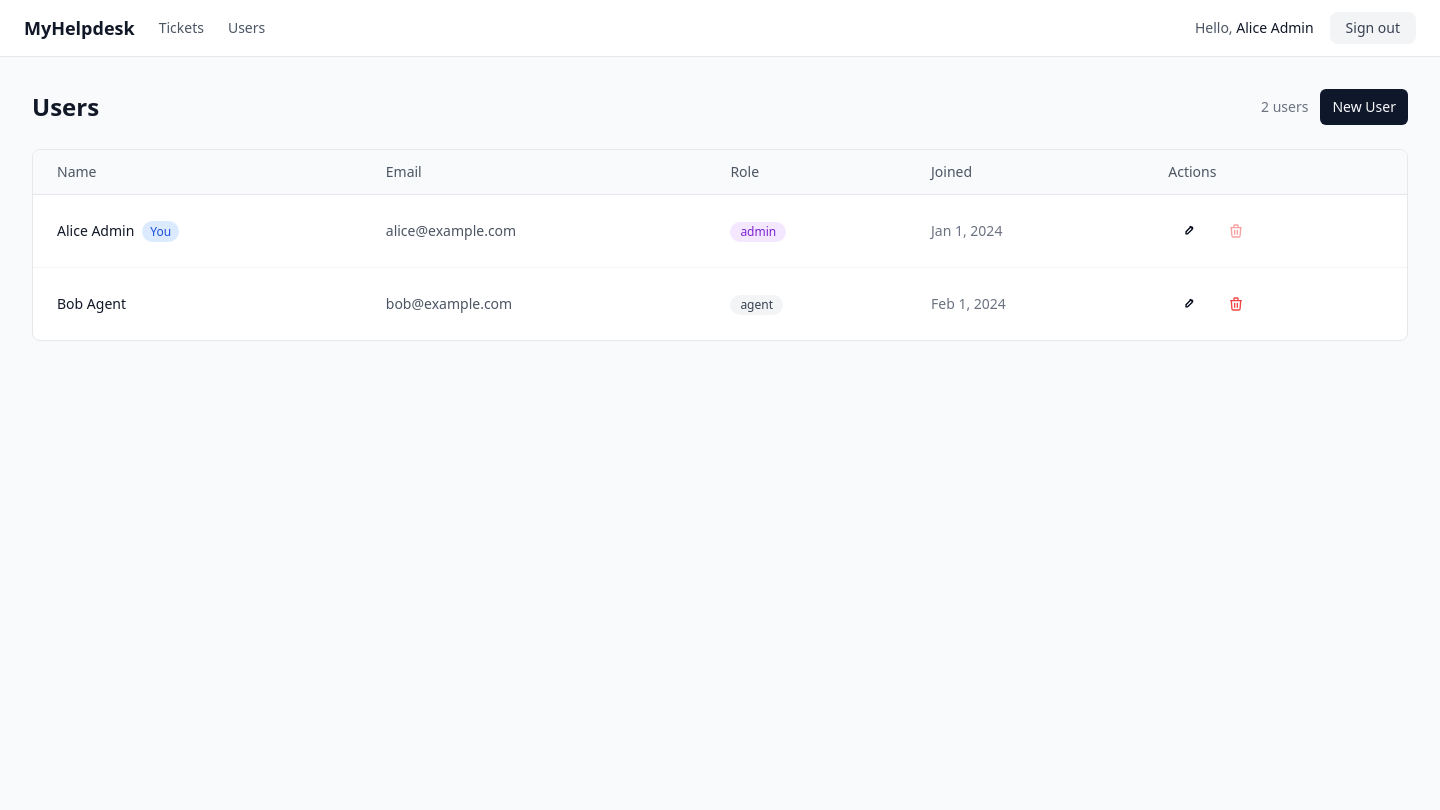
UsersPage › delete › removes the user row after confirming deletion
The width and height of the screenshot is (1440, 810).
Expected: the text "Bob Agent" is shown, [33,268,362,340]
Click the button named "Delete" in the row of "Bob Agent": point(1236, 304) [1216,284,1256,324]
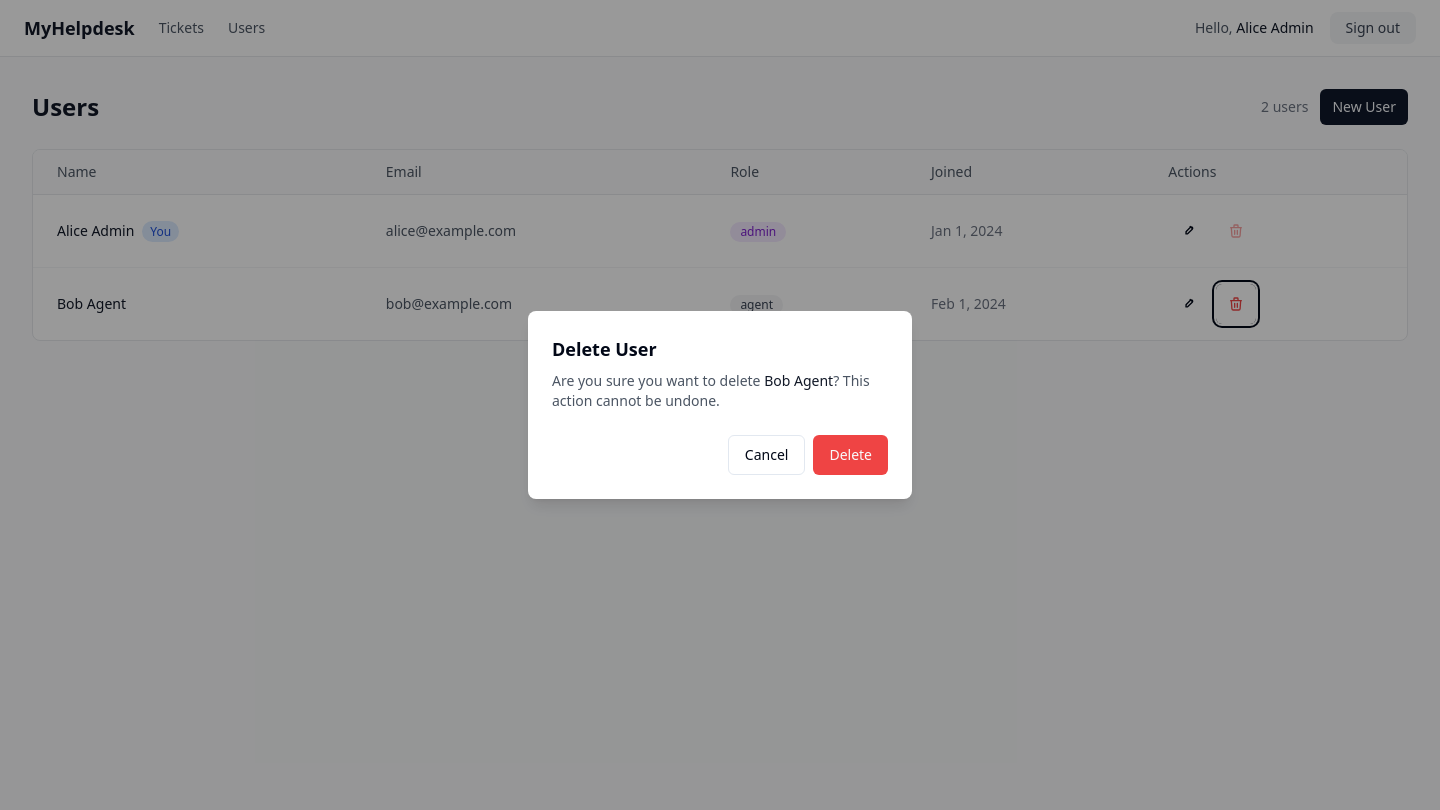
Click the button "Delete": point(851, 455) [813,435,888,475]
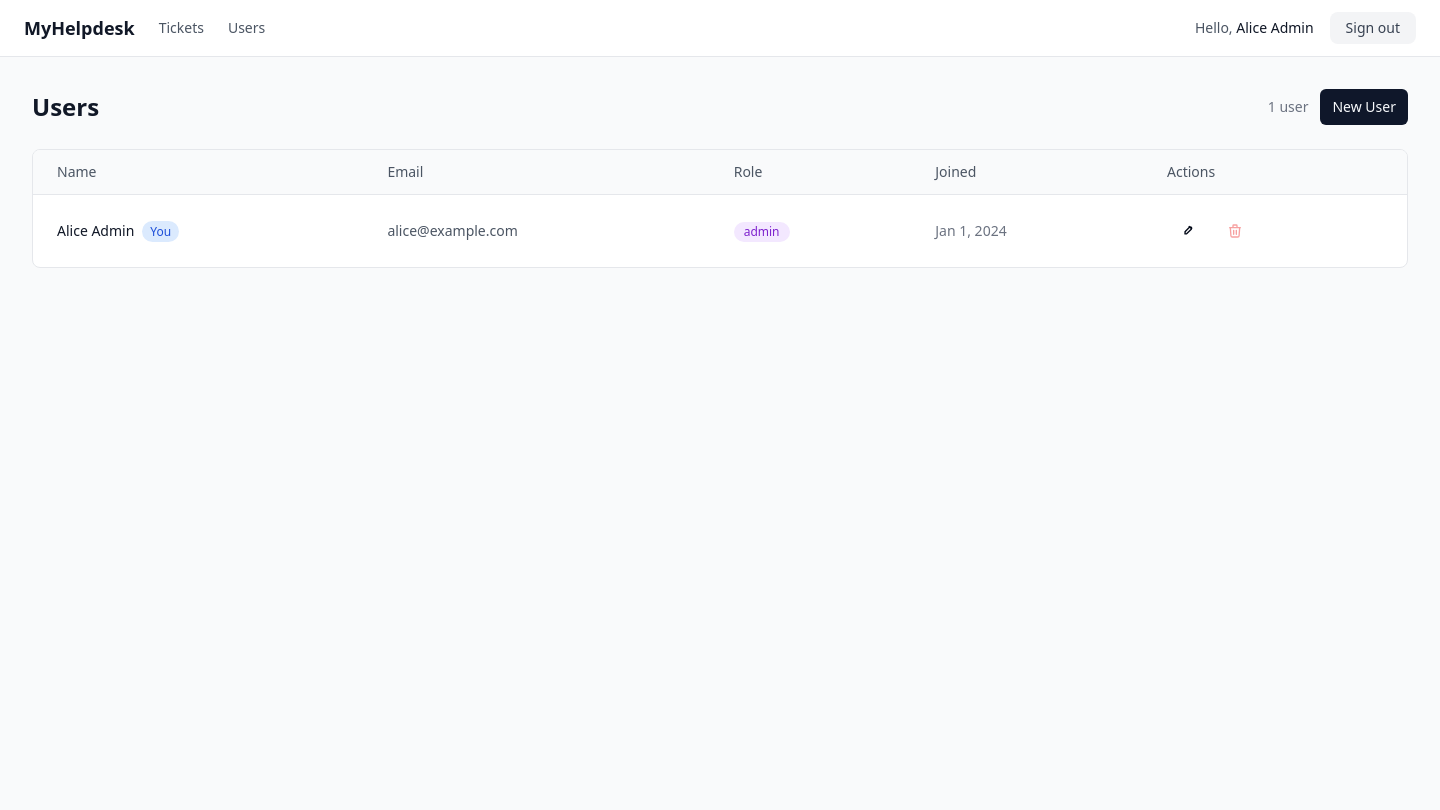
Expected: the text "Bob Agent" is gone
